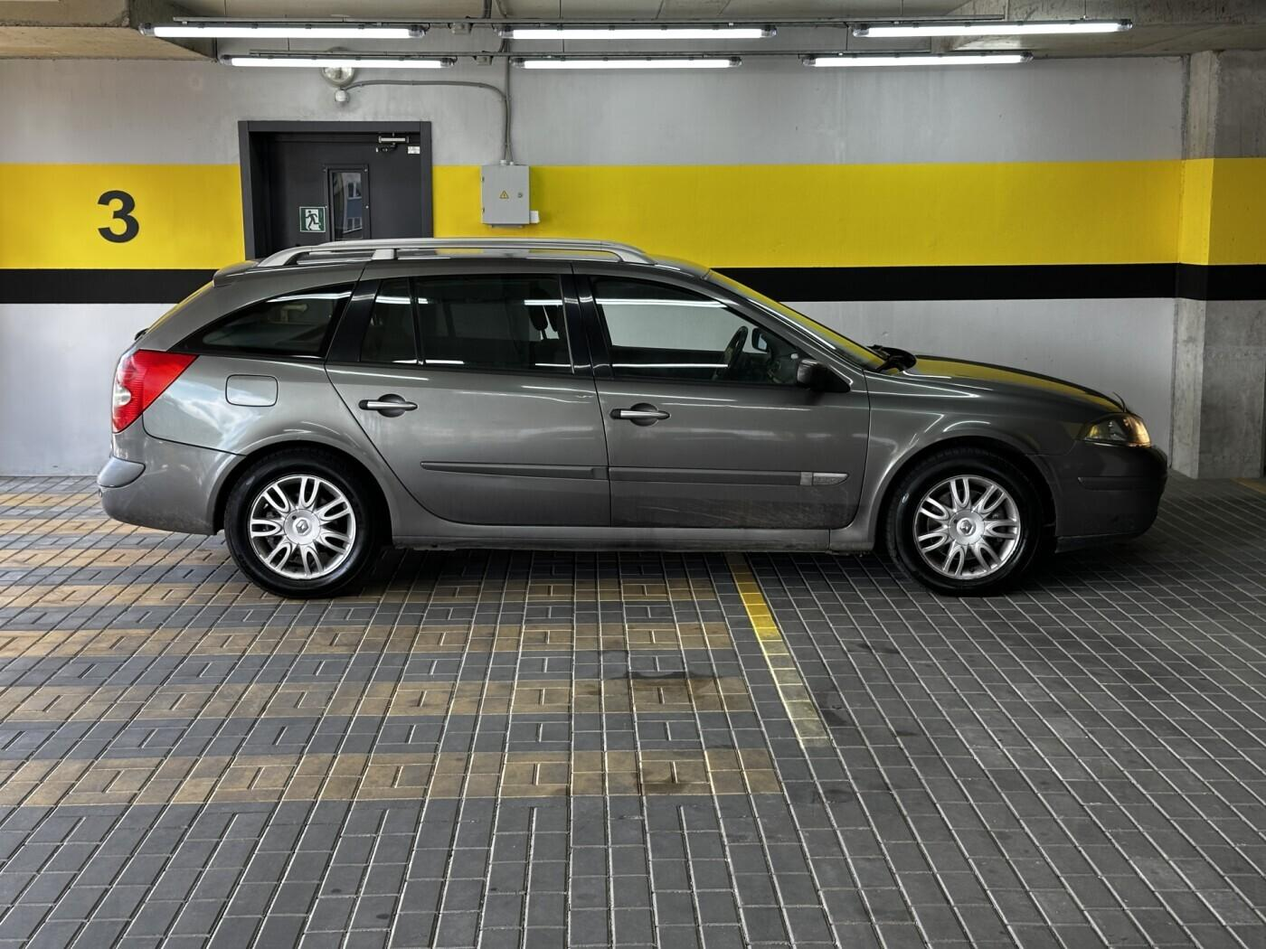Laguna_2005-2007: (99, 236, 1170, 621)
